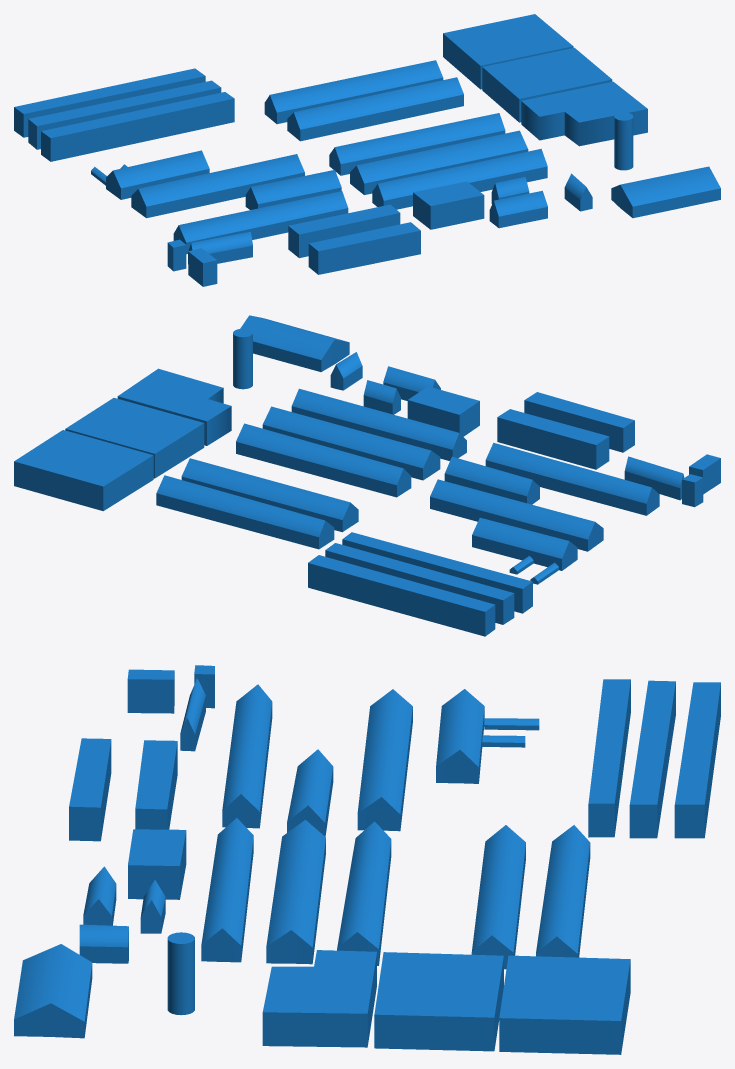
File: builder.FBX
3 views of the same model, one above another, from view 1: azimuth 30°, elevation 25°; view 2: azimuth 150°, elevation 25°; view 3: azimuth 270°, elevation 25° (orthographic). The views are drawn at different scales.
Visible parts, largest first — view 1: builder; view 2: builder; view 3: builder.
Part boxes in pixels (x1,y1,x2,y2): builder: (14, 14, 720, 286); builder: (14, 315, 720, 636); builder: (14, 665, 720, 1054).
Size of what is drawn, in the model's own units: 1576 by 147 by 1323.
